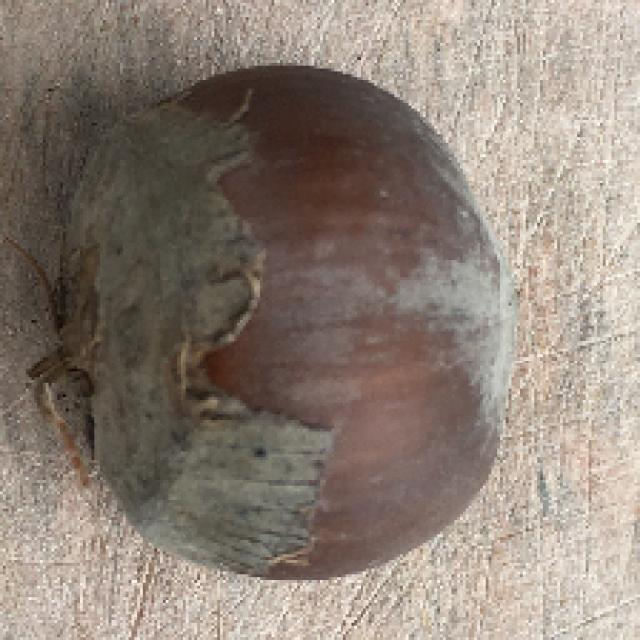damagedHazelnut: (50, 64, 507, 575)
